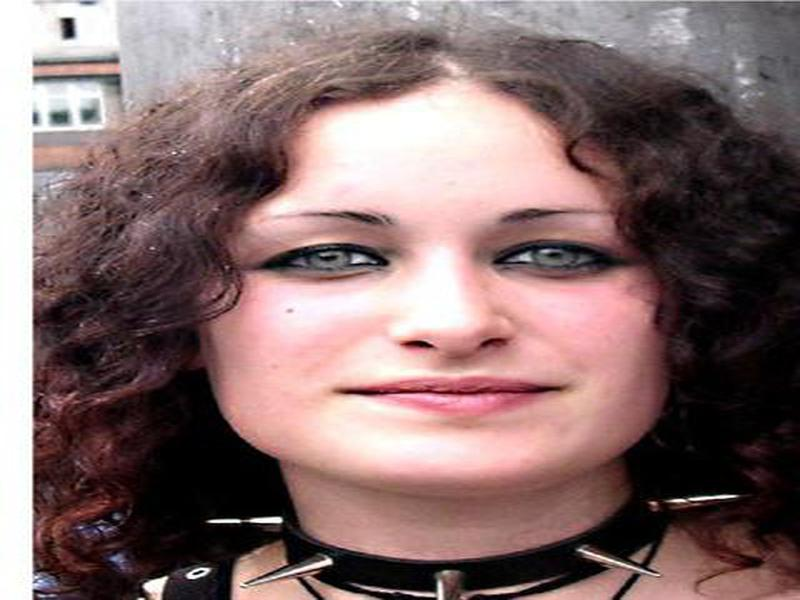without_mask: (200, 104, 670, 495)
